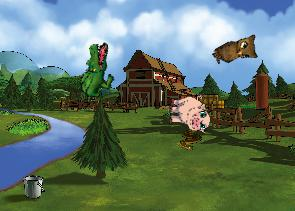crocodile: (72, 40, 119, 106)
owl: (210, 29, 264, 76)
pig: (167, 94, 210, 133)
